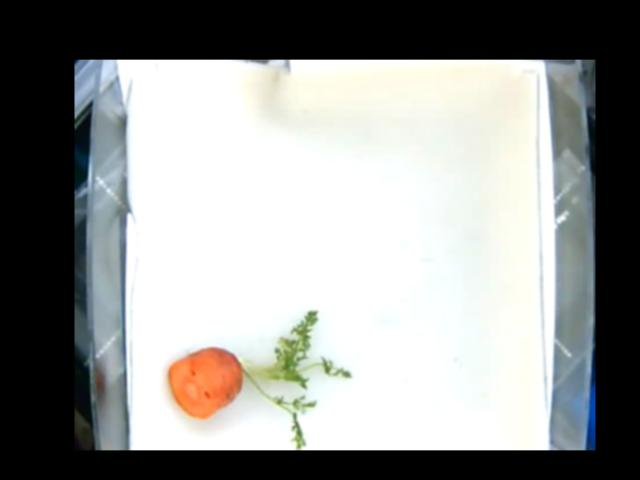Carrot: (167, 309, 353, 448)
